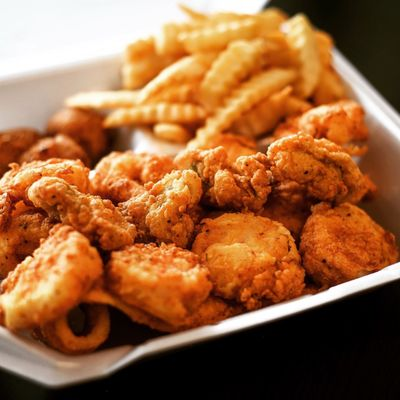salad: (0, 224, 104, 333), (191, 213, 306, 308), (104, 241, 215, 332), (299, 201, 400, 289), (26, 176, 136, 253), (117, 169, 204, 249), (34, 302, 112, 355), (18, 133, 91, 170)
